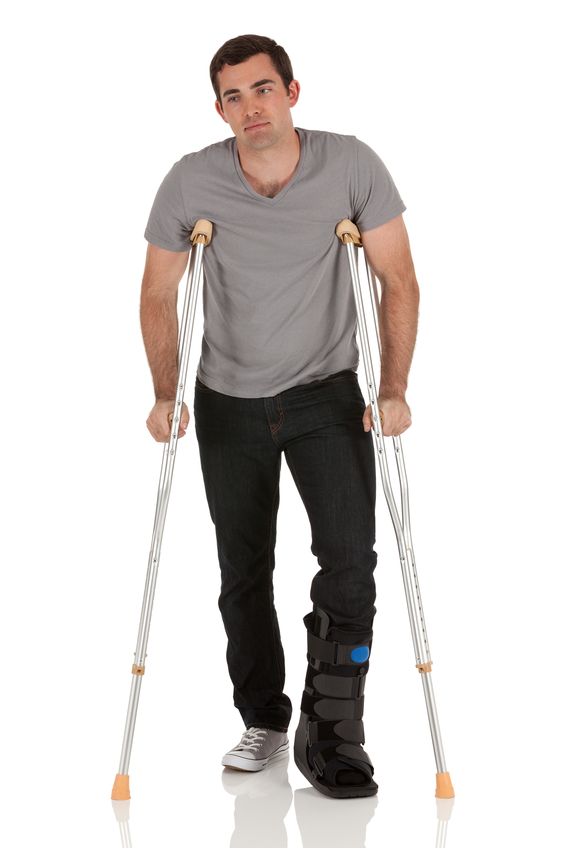crutches: (107, 30, 456, 804)
